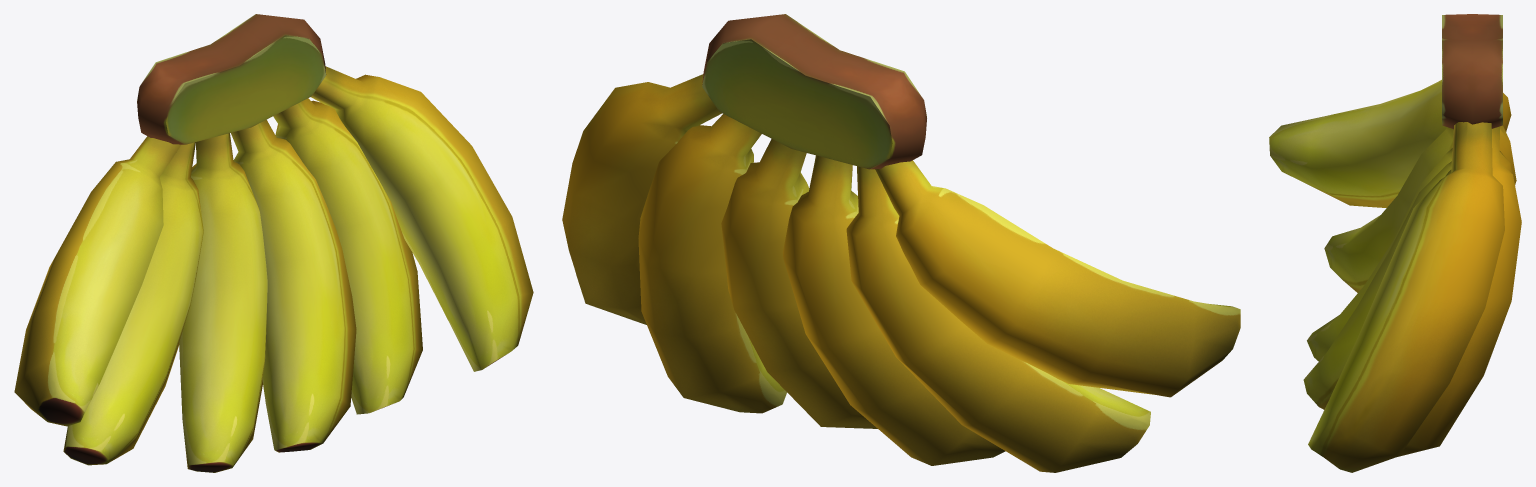
File: Banana.fbx
3 renders of one model, left to right at view 1: azimuth 30°, elevation 25°; view 2: azimuth 150°, elevation 25°; view 3: azimuth 270°, elevation 25°, orthographic. The views are drawn at different scales.
Visible parts, largest first — view 1: 057; view 2: 057; view 3: 057.
Part boxes in pixels (<box>): 057: <box>14,14,533,472</box>; 057: <box>562,14,1240,472</box>; 057: <box>1269,14,1521,472</box>.
Size of the model in its own units: 48.97 by 33.89 by 19.76.
Materials: 1 (1 with a texture image).
